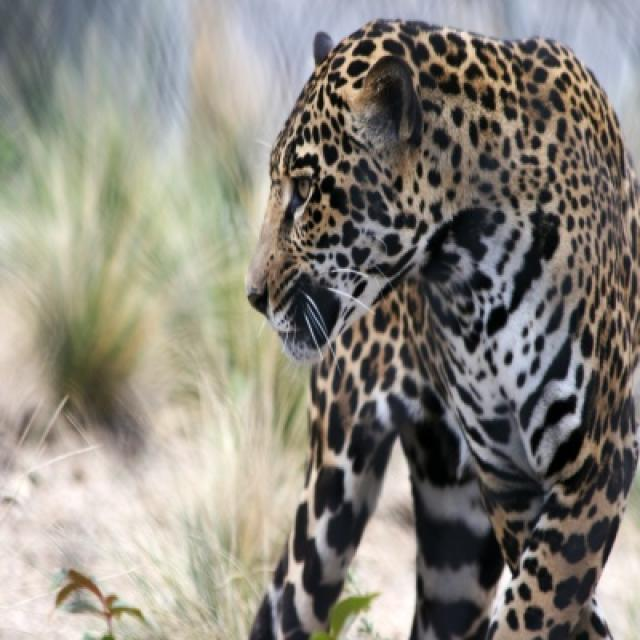Jaguar: (245, 19, 638, 638)
